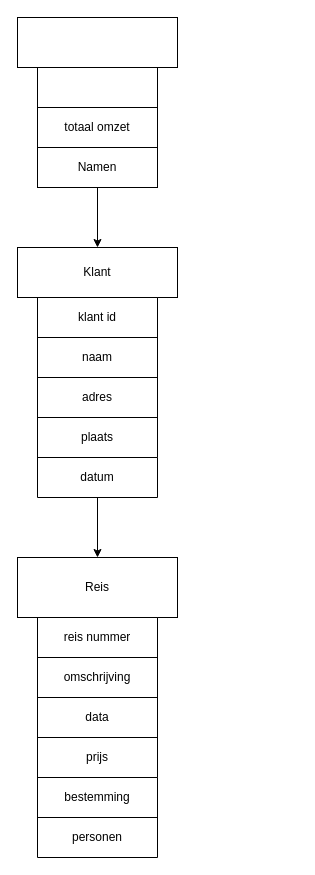
This 315x875 diagram has some shape labels left out. Each missing label, with the centre of its shape:
"Plaatsen" goes at [97,87].
"Reisbureau" goes at [97,42].
